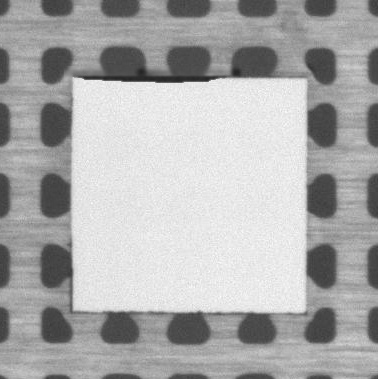DIE_BROKEN: (79, 70, 223, 87)
